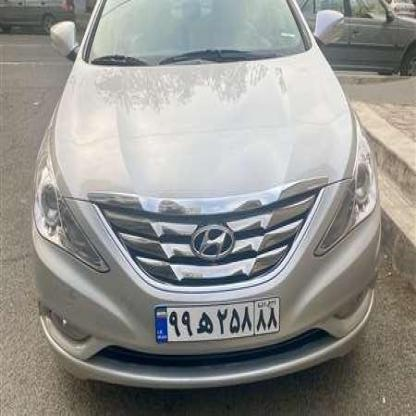Car: (37, 0, 384, 385), (298, 0, 416, 77), (0, 0, 74, 51)
